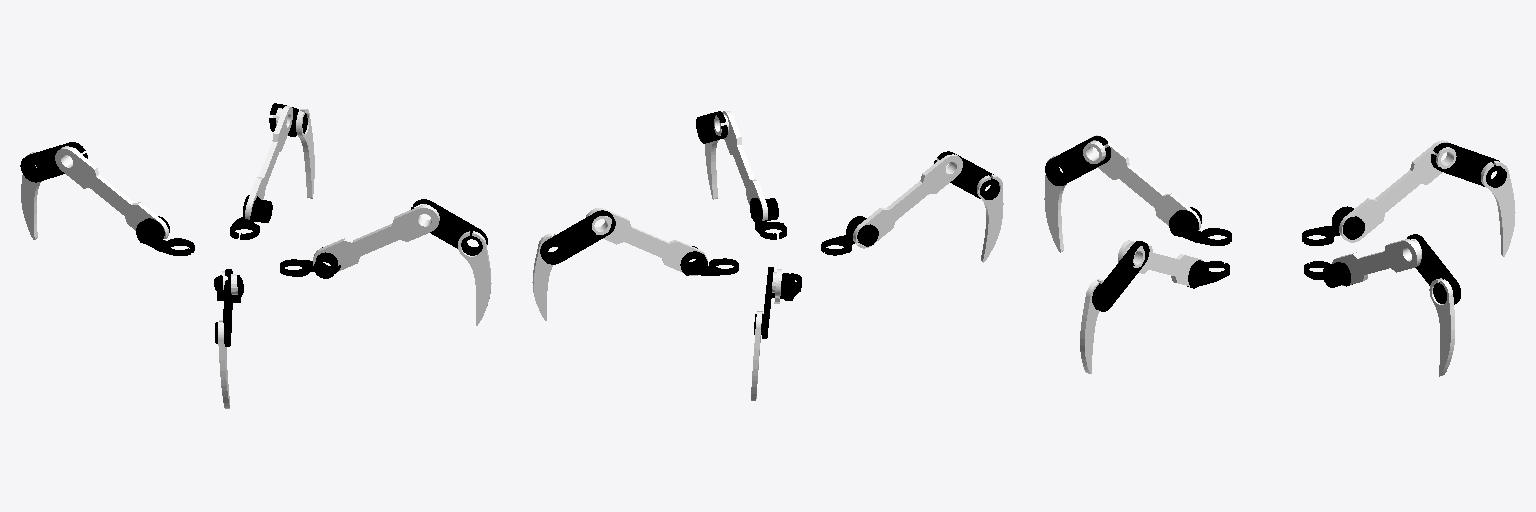
The robot description file, URDF, robot "spider":
<?xml version="1.0"?>
<robot name="spider">

  <material name="blue">
    <color rgba="0 0 0.8 1"/>
  </material>
  <material name="black">
    <color rgba="0 0 0 1"/>
  </material>
  <material name="white">
    <color rgba="1 1 1 1"/>
  </material>

  <link name="base_link">
    <visual>
      <origin rpy="0.0 0 0" xyz="0 0 1"/>
      <geometry>
        <mesh filename="package://udm_spider/mesh/torso.stl" scale="0.05 0.05 0.05"/>
      </geometry>
      <material name="white"/>
    </visual>
  </link>

  <link name="root_link_1">
    <visual>
      <origin rpy="0 0 0.7" xyz="0.30 0.2 0.0"/>
      <geometry>
        <mesh filename="package://udm_spider/mesh/rootlink.stl" scale="0.05 0.05 0.05"/>
      </geometry>
      <material name="black"/>
    </visual>
  </link>

  <joint name="root_link_1_joint" type="revolute">
    <axis xyz="0 0 1"/>
    <limit effort="1000.0" lower="0.0" upper="0.5" velocity="0.5"/>
    <parent link="base_link"/>
    <child link="root_link_1"/>
    <origin xyz="0.7 1.0 0.85"/>
  </joint>

  <link name="long_link_1">
    <visual>
      <origin rpy="-1.5 -0.5 0.7" xyz="0.2 0.4 0.2"/>
      <geometry>
        <mesh filename="package://udm_spider/mesh/long-link.stl" scale="0.05 0.05 0.05"/>
      </geometry>
      <material name="white"/>
    </visual>
  </link>

  <joint name="long_link_1_joint" type="revolute">
    <axis xyz="-1 0 0"/>
    <limit effort="1000.0" lower="0.0" upper="1" velocity="0.5"/>
    <parent link="root_link_1"/>
    <child link="long_link_1"/>
    <origin xyz="0.50 0.15 0.25"/>
  </joint>

  <link name="link_1">
    <visual>
      <origin   xyz="0.5 0 0.02"/>
      <geometry>
        <mesh filename="package://udm_spider/mesh/link1.stl" scale="0.05 0.05 0.05"/>
      </geometry>
      <material name="black"/>
    </visual>
  </link>

  <joint name="link_1_joint" type="revolute">
    <axis xyz="0 0 1"/>
    <limit effort="1000.0" lower="0.0" upper="1" velocity="0.5"/>
    <parent link="long_link_1"/>
    <child link="link_1"/>
     <origin rpy="1.5 0.5 0.7" xyz="1 1.45 0.95"/>
  </joint>

  <link name="leaf_link_1">
    <visual>
      <origin rpy="0 0 -1" xyz="0.27 -0.42 0"/>
      <geometry>
        <mesh filename="package://udm_spider/mesh/leaf-link.stl" scale="0.05 0.05 0.05"/>
      </geometry>
      <material name="white"/>
    </visual>
  </link>

  <joint name="leaf_link_1_joint" type="revolute">
    <axis xyz="0 0 1"/>
    <limit effort="1000.0" lower="-1" upper="1" velocity="0.5"/>
    <parent link="link_1"/>
    <child link="leaf_link_1"/>
    <origin xyz="1 0 0.2"/>
  </joint>



  <link name="root_link_2">
    <visual>
      <origin rpy="0 0 2" xyz="-0.20 0.3 0.0"/>
      <geometry>
        <mesh filename="package://udm_spider/mesh/rootlink.stl" scale="0.05 0.05 0.05"/>
      </geometry>
      <material name="black"/>
    </visual>
  </link>	

  <joint name="root_link_2_joint" type="revolute">
    <axis xyz="0 0 1.4"/>
    <limit effort="1000.0" lower="0.0" upper="0.5" velocity="0.5"/>
    <parent link="base_link"/>
    <child link="root_link_2"/>
    <origin xyz="-0.7 1.0 0.85"/>
  </joint>

  <link name="long_link_2">
    <visual>
      <origin rpy="1.5 -0.5 2.1" xyz="-0.2 0.4 0.2"/>
      <geometry>
        <mesh filename="package://udm_spider/mesh/long-link.stl" scale="0.05 0.05 0.05"/>
      </geometry>
      <material name="white"/>
    </visual>
  </link>

  <joint name="long_link_2_joint" type="revolute">
    <axis xyz="-1 0 0"/>
    <limit effort="1000.0" lower="0.0" upper="1" velocity="0.5"/>
    <parent link="root_link_2"/>
    <child link="long_link_2"/>
    <origin xyz="-0.2 0.43 0.2"/>
  </joint>

  <link name="link_2">
    <visual>
      <origin   xyz="0.5 0 -0.02"/>
      <geometry>
        <mesh filename="package://udm_spider/mesh/link1.stl" scale="0.05 0.05 0.05"/>
      </geometry>
      <material name="black"/>
    </visual>
  </link>

  <joint name="link_2_joint" type="revolute">
    <axis xyz="0 0 1"/>
    <limit effort="1000.0" lower="0.0" upper="1" velocity="0.5"/>
    <parent link="long_link_2"/>
    <child link="link_2"/>
     <origin rpy="1.5 0.5 2" xyz="-0.7 1.6 0.95"/>
  </joint>

  <link name="leaf_link_2">
    <visual>
      <origin rpy="0 0 -1" xyz="0.27 -0.42 0"/>
      <geometry>
        <mesh filename="package://udm_spider/mesh/leaf-link.stl" scale="0.05 0.05 0.05"/>
      </geometry>
      <material name="white"/>
    </visual>
  </link>

  <joint name="leaf_link_2_joint" type="revolute">
    <axis xyz="0 0 1"/>
    <limit effort="1000.0" lower="-1" upper="1" velocity="0.5"/>
    <parent link="link_2"/>
    <child link="leaf_link_2"/>
    <origin xyz="1 0 0.1"/>
  </joint>


  <link name="root_link_3">
    <visual>
      <origin rpy="0 0 -2" xyz="-0.20 -0.3 0.0"/>
      <geometry>
        <mesh filename="package://udm_spider/mesh/rootlink.stl" scale="0.05 0.05 0.05"/>
      </geometry>
      <material name="black"/>
    </visual>
  </link>	

  <joint name="root_link_3_joint" type="revolute">
    <axis xyz="0 0 1.4"/>
    <limit effort="1000.0" lower="0.0" upper="0.5" velocity="0.5"/>
    <parent link="base_link"/>
    <child link="root_link_3"/>
    <origin xyz="-0.7 -1.0 0.85"/>
  </joint>

  <link name="long_link_3">
    <visual>
      <origin rpy="-1.5 -0.5 -2.1" xyz="-0.4 -0.3 0.2"/>
      <geometry>
        <mesh filename="package://udm_spider/mesh/long-link.stl" scale="0.05 0.05 0.05"/>
      </geometry>
      <material name="white"/>
    </visual>
  </link>

  <joint name="long_link_3_joint" type="revolute">
    <axis xyz="-1 0 0"/>
    <limit effort="1000.0" lower="0.0" upper="1" velocity="0.5"/>
    <parent link="root_link_3"/>
    <child link="long_link_3"/>
    <origin xyz="-0.2 -0.43 0.2"/>
  </joint>

  <link name="link_3">
    <visual>
      <origin   xyz="0.5 0 0.02"/>
      <geometry>
        <mesh filename="package://udm_spider/mesh/link1.stl" scale="0.05 0.05 0.05"/>
      </geometry>
      <material name="black"/>
    </visual>
  </link>

  <joint name="link_3_joint" type="revolute">
    <axis xyz="0 0 1"/>
    <limit effort="1000.0" lower="0.0" upper="1" velocity="0.5"/>
    <parent link="long_link_3"/>
    <child link="link_3"/>
     <origin rpy="-1.5 2.5 1" xyz="-0.9 -1.5 0.95"/>
  </joint>

  <link name="leaf_link_3">
    <visual>
      <origin rpy="0 0 -1" xyz="0.3 -0.4 0"/>
      <geometry>
        <mesh filename="package://udm_spider/mesh/leaf-link.stl" scale="0.05 0.05 0.05"/>
      </geometry>
      <material name="white"/>
    </visual>
  </link>

  <joint name="leaf_link_3_joint" type="revolute">
    <axis xyz="0 0 1"/>
    <limit effort="1000.0" lower="-1" upper="1" velocity="0.5"/>
    <parent link="link_3"/>
    <child link="leaf_link_3"/>
    <origin xyz="1 0 0.1"/>
  </joint>

  <link name="root_link_4">
    <visual>
      <origin rpy="0 0 -0.7" xyz="0.30 -0.2 0.0"/>
      <geometry>
        <mesh filename="package://udm_spider/mesh/rootlink.stl" scale="0.05 0.05 0.05"/>
      </geometry>
      <material name="black"/>
    </visual>
  </link>

  <joint name="root_link_4_joint" type="revolute">
    <axis xyz="0 0 1"/>
    <limit effort="1000.0" lower="0.0" upper="0.5" velocity="0.5"/>
    <parent link="base_link"/>
    <child link="root_link_4"/>
    <origin xyz="0.7 -1.0 0.85"/>
  </joint>

  <link name="long_link_4">
    <visual>
      <origin rpy="-1.5 -0.5 -0.7" xyz="0.2 -0.4 0.2"/>
      <geometry>
        <mesh filename="package://udm_spider/mesh/long-link.stl" scale="0.05 0.05 0.05"/>
      </geometry>
      <material name="white"/>
    </visual>
  </link>

  <joint name="long_link_4_joint" type="revolute">
    <axis xyz="-1 0 0"/>
    <limit effort="1000.0" lower="-1" upper="1" velocity="0.5"/>
    <parent link="root_link_4"/>
    <child link="long_link_4"/>
    <origin xyz="0.50 -0.15 0.25"/>
  </joint>

  <link name="link_4">
    <visual>
      <origin   xyz="0.5 0 0.02"/>
      <geometry>
        <mesh filename="package://udm_spider/mesh/link1.stl" scale="0.05 0.05 0.05"/>
      </geometry>
      <material name="black"/>
    </visual>
  </link>

  <joint name="link_4_joint" type="revolute">
    <axis xyz="0 0 1"/>
    <limit effort="1000.0" lower="0.0" upper="1" velocity="0.5"/>
    <parent link="long_link_4"/>
    <child link="link_4"/>
     <origin rpy="1.5 0.5 -0.7" xyz="1.35 -1 0.95"/>
  </joint>


  <link name="leaf_link_4">
    <visual>
      <origin rpy="0 0 -1" xyz="0.27 -0.42 0"/>
      <geometry>
        <mesh filename="package://udm_spider/mesh/leaf-link.stl" scale="0.05 0.05 0.05"/>
      </geometry>
      <material name="white"/>
    </visual>
  </link>

  <joint name="leaf_link_4_joint" type="revolute">
    <axis xyz="0 0 1"/>
    <limit effort="1000.0" lower="-1" upper="1" velocity="0.5"/>
    <parent link="link_4"/>
    <child link="leaf_link_4"/>
    <origin xyz="1 0 0.2"/>
  </joint>

</robot>

--- Facts derived from the render (not from the file) ---
3 views of the same robot in one strip: view 1: azimuth 30°, elevation 25°; view 2: azimuth 150°, elevation 25°; view 3: azimuth 270°, elevation 25° (orthographic).
Model spider with 17 links and 16 joints (16 revolute), rooted at base_link, posed every joint at zero.
Links seen in each view (by area): view 1: long_link_4, long_link_2, long_link_1, link_4, leaf_link_4, link_2, root_link_2, root_link_4, root_link_1, leaf_link_1, leaf_link_2, link_3 (+1 smaller); view 2: long_link_3, long_link_1, link_1, long_link_4, link_3, leaf_link_3, root_link_3, root_link_1, root_link_4, leaf_link_1, link_4, leaf_link_4 (+1 smaller); view 3: long_link_2, long_link_3, long_link_1, link_2, link_4, link_3, long_link_4, link_1, leaf_link_2, leaf_link_1, root_link_3, root_link_2 (+4 smaller).
Link boxes in pixels (x1=…): long_link_4: x1=313, y1=204, x2=439, y2=271; long_link_2: x1=55, y1=146, x2=168, y2=240; long_link_1: x1=245, y1=106, x2=292, y2=219; link_4: x1=411, y1=199, x2=487, y2=255; leaf_link_4: x1=458, y1=231, x2=491, y2=325; link_2: x1=20, y1=142, x2=87, y2=182; root_link_2: x1=136, y1=216, x2=194, y2=255; root_link_4: x1=280, y1=247, x2=340, y2=278; root_link_1: x1=230, y1=195, x2=272, y2=239; leaf_link_1: x1=296, y1=109, x2=314, y2=198; leaf_link_2: x1=21, y1=152, x2=41, y2=239; link_3: x1=215, y1=269, x2=232, y2=346; long_link_3: x1=853, y1=154, x2=962, y2=248; long_link_1: x1=586, y1=208, x2=707, y2=275; link_1: x1=540, y1=210, x2=615, y2=264; long_link_4: x1=714, y1=111, x2=767, y2=220; link_3: x1=934, y1=151, x2=999, y2=199; leaf_link_3: x1=977, y1=174, x2=1003, y2=262; root_link_3: x1=821, y1=216, x2=878, y2=255; root_link_1: x1=680, y1=246, x2=738, y2=275; root_link_4: x1=750, y1=198, x2=786, y2=239; leaf_link_1: x1=532, y1=233, x2=556, y2=320; link_4: x1=696, y1=111, x2=727, y2=143; leaf_link_4: x1=705, y1=140, x2=718, y2=199; long_link_2: x1=1339, y1=140, x2=1456, y2=242; long_link_3: x1=1083, y1=135, x2=1200, y2=230; long_link_1: x1=1332, y1=239, x2=1421, y2=285; link_2: x1=1431, y1=143, x2=1506, y2=187; link_4: x1=1092, y1=241, x2=1149, y2=311; link_3: x1=1045, y1=136, x2=1110, y2=185; long_link_4: x1=1118, y1=240, x2=1202, y2=286; link_1: x1=1407, y1=234, x2=1460, y2=304; leaf_link_2: x1=1481, y1=161, x2=1515, y2=256; leaf_link_1: x1=1429, y1=278, x2=1454, y2=376; root_link_3: x1=1169, y1=207, x2=1231, y2=245; root_link_2: x1=1302, y1=206, x2=1364, y2=245.
Size in the robot's own frame: 5.97 by 8.05 by 2.41 metres.
16 mesh visuals loaded from 5 distinct referenced files (4 ASCII STL); not drawn: 1 (reference not matched to a file when rendering).